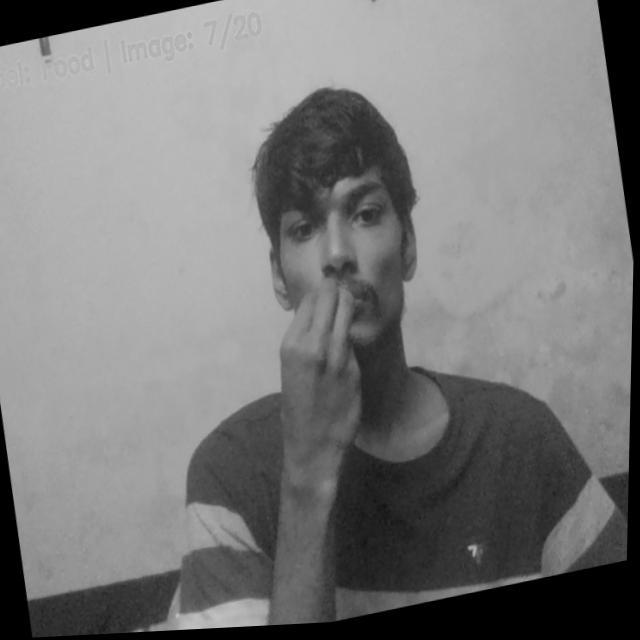Food: (261, 279, 382, 455)
